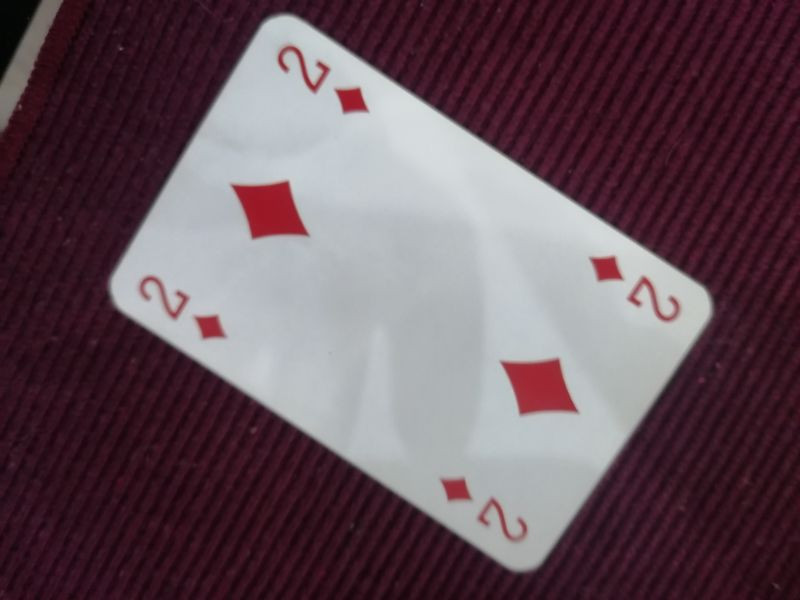2d: (272, 40, 374, 122), (436, 469, 534, 548), (585, 251, 685, 327), (135, 271, 233, 348)
